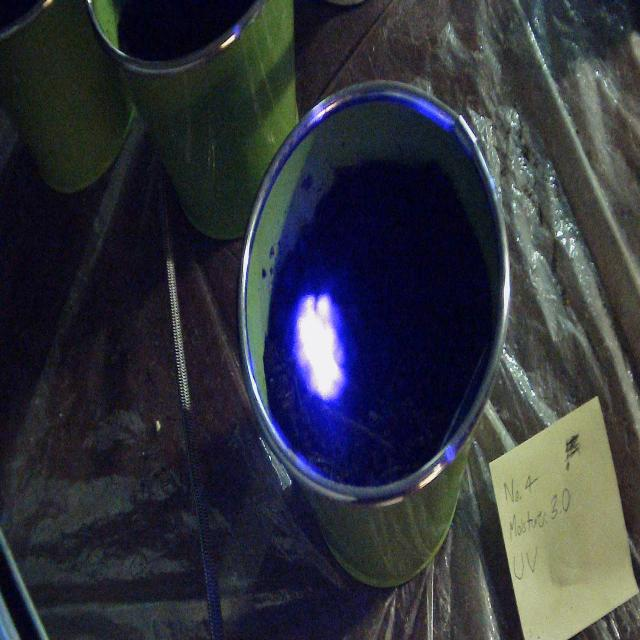soil-moisture-3.0: (292, 290, 350, 406)
